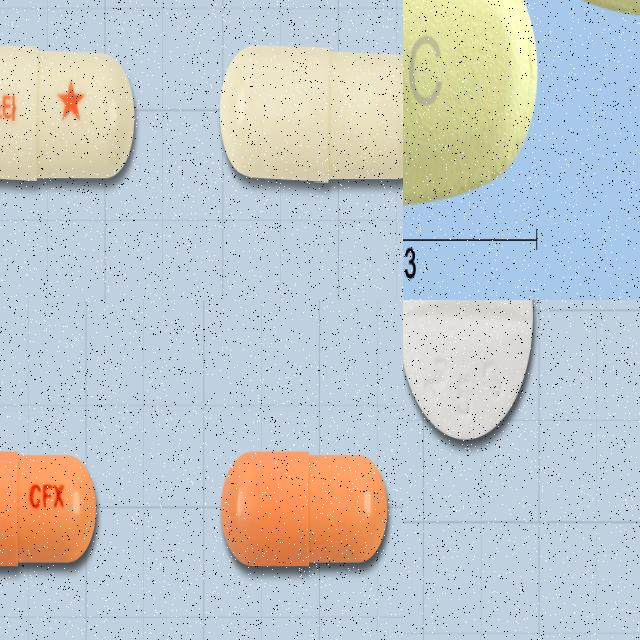Cefixime Cap- Withus: (219, 446, 394, 576), (0, 445, 101, 578)
Ciprobay: (403, 300, 543, 447)
Clasta: (403, 0, 539, 210)
Dentistar Cap: (220, 42, 403, 185), (0, 41, 137, 182)
